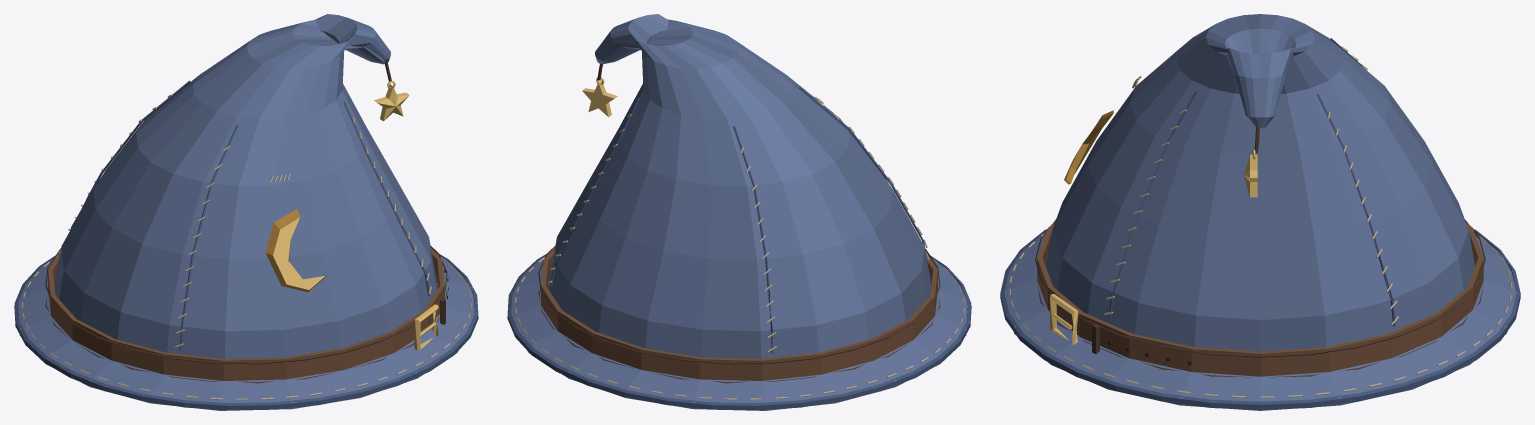
File: 007_crescent_wizard_detailed_v01.glb
3 views of the same model, side by side, from view 1: azimuth 30°, elevation 25°; view 2: azimuth 150°, elevation 25°; view 3: azimuth 270°, elevation 25° (orthographic). The views are drawn at different scales.
Visible parts, largest first — view 1: Wizard broad asymmetrically bent crown, Open annular brim, Raised band, Wizard thick turned brim binding, Wizard bevelled gold crescent relief, Wizard leather rolled band edge.001, Wizard individual brim topstitches, Wizard dangling faceted five-point gold star, Wizard crown seam welt 00, Wizard cast brass open square buckle, Wizard crown seam welt 01, Wizard crown seam welt 03; view 2: Wizard broad asymmetrically bent crown, Open annular brim, Raised band, Wizard thick turned brim binding, Wizard leather rolled band edge.001, Wizard individual brim topstitches, Wizard dangling faceted five-point gold star, Wizard crown seam welt 03, Wizard crown seam welt 00, Wizard crown seam welt 02, Wizard leather rolled band edge; view 3: Wizard broad asymmetrically bent crown, Open annular brim, Raised band, Wizard thick turned brim binding, Wizard leather rolled band edge.001, Wizard individual brim topstitches, Wizard bevelled gold crescent relief, Wizard cast brass open square buckle, Wizard crown seam welt 02, Wizard crown seam welt 01, Wizard leather rolled band edge, Wizard dangling faceted five-point gold star.
Part boxes in pixels (x1,y1,x2,y2): Wizard broad asymmetrically bent crown: (54, 14, 437, 358); Open annular brim: (18, 257, 474, 410); Raised band: (48, 248, 444, 380); Wizard thick turned brim binding: (14, 253, 478, 410); Wizard bevelled gold crescent relief: (265, 209, 326, 292); Wizard leather rolled band edge.001: (45, 246, 447, 364); Wizard individual brim topstitches: (21, 254, 471, 399); Wizard dangling faceted five-point gold star: (374, 84, 409, 121); Wizard crown seam welt 00: (179, 124, 238, 350); Wizard cast brass open square buckle: (414, 304, 438, 350); Wizard crown seam welt 01: (343, 101, 429, 295); Wizard crown seam welt 03: (71, 80, 190, 228); Wizard broad asymmetrically bent crown: (548, 14, 931, 358); Open annular brim: (511, 255, 967, 410); Raised band: (541, 248, 937, 380); Wizard thick turned brim binding: (507, 253, 971, 410); Wizard leather rolled band edge.001: (538, 246, 940, 364); Wizard individual brim topstitches: (514, 257, 964, 399); Wizard dangling faceted five-point gold star: (582, 80, 617, 116); Wizard crown seam welt 03: (733, 126, 773, 353); Wizard crown seam welt 00: (799, 86, 927, 261); Wizard crown seam welt 02: (550, 98, 640, 286); Wizard leather rolled band edge: (538, 289, 940, 383); Wizard broad asymmetrically bent crown: (1046, 14, 1474, 351); Open annular brim: (1004, 234, 1516, 410); Raised band: (1037, 222, 1483, 376); Wizard thick turned brim binding: (1000, 229, 1520, 409); Wizard leather rolled band edge.001: (1035, 219, 1485, 357); Wizard individual brim topstitches: (1008, 233, 1512, 397); Wizard bevelled gold crescent relief: (1064, 110, 1113, 184); Wizard cast brass open square buckle: (1050, 294, 1078, 344); Wizard crown seam welt 02: (1317, 94, 1395, 326); Wizard crown seam welt 01: (1108, 91, 1196, 318); Wizard leather rolled band edge: (1037, 286, 1483, 377); Wizard dangling faceted five-point gold star: (1244, 154, 1257, 197).
Bounding box in the file's own units: 2.47 × 1.56 × 2.42.
